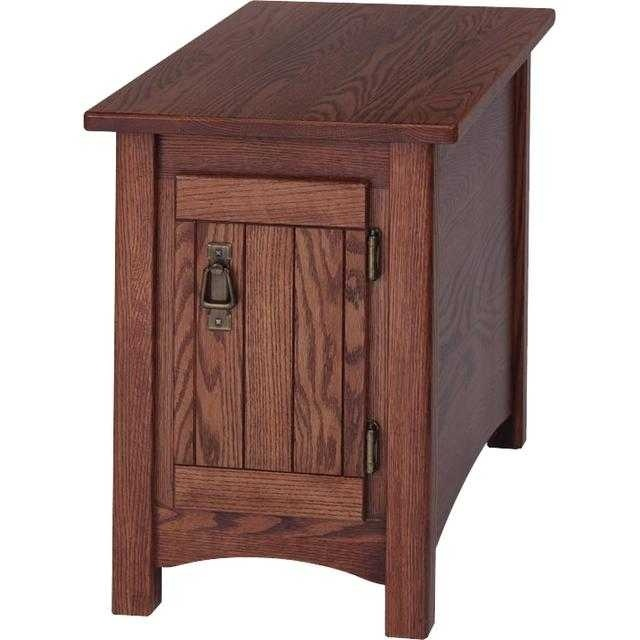obstacle: (85, 2, 553, 637)
